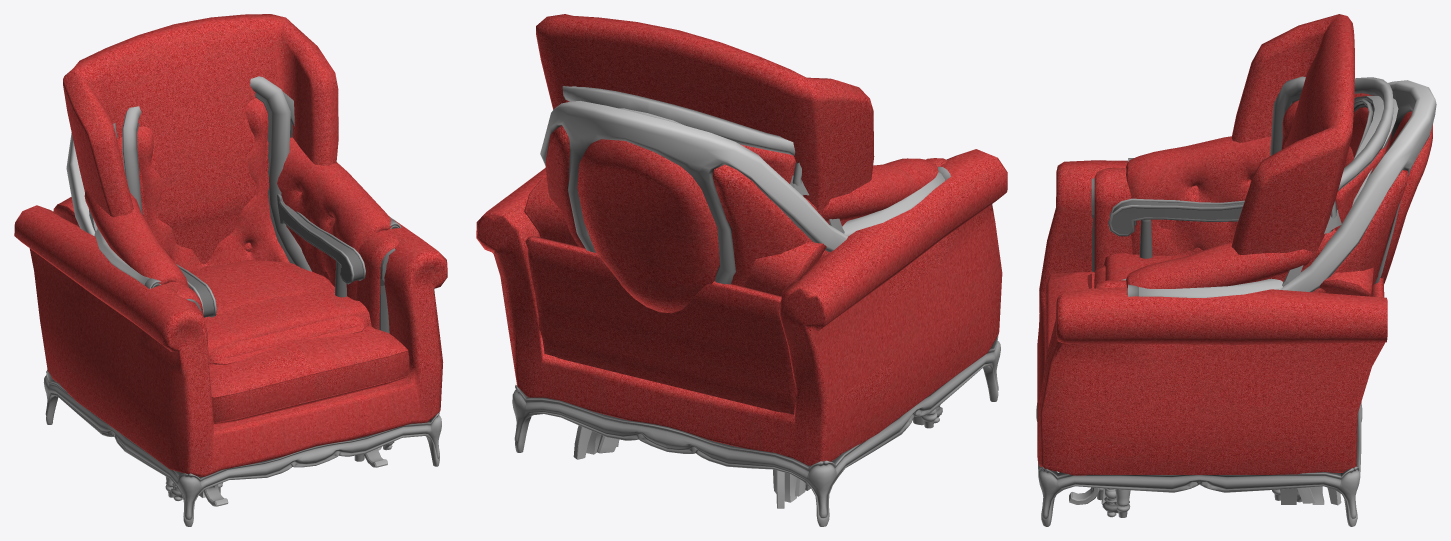
The model's file is GrandChairs.fbx.
3 renders of one model, left to right at view 1: azimuth 30°, elevation 25°; view 2: azimuth 150°, elevation 25°; view 3: azimuth 270°, elevation 25°, orthographic. The views are drawn at different scales.
Parts seen in each view (by area): view 1: grandchair7_MSH, GrandChair8_MSH, grandchair1_MSH, grandchair5_MSH, grandchair6_MSH, grandchair4_MSH, grandchair2_MSH; view 2: grandchair7_MSH, grandchair2_MSH, GrandChair8_MSH, grandchair6_MSH, grandchair5_MSH, grandchair4_MSH; view 3: grandchair7_MSH, GrandChair8_MSH, grandchair5_MSH, grandchair2_MSH, grandchair1_MSH, grandchair6_MSH, grandchair3_MSH, grandchair4_MSH.
Part boxes in pixels (x1,y1,x2,y2): grandchair7_MSH: (14, 197, 447, 526); GrandChair8_MSH: (63, 14, 398, 506); grandchair1_MSH: (122, 76, 368, 492); grandchair5_MSH: (84, 137, 391, 447); grandchair6_MSH: (172, 260, 392, 501); grandchair4_MSH: (94, 91, 401, 450); grandchair2_MSH: (66, 133, 174, 497); grandchair7_MSH: (476, 149, 1007, 526); grandchair2_MSH: (540, 101, 937, 428); GrandChair8_MSH: (536, 14, 947, 490); grandchair6_MSH: (562, 86, 939, 508); grandchair5_MSH: (597, 158, 938, 493); grandchair4_MSH: (795, 166, 950, 496); grandchair7_MSH: (1036, 160, 1387, 526); GrandChair8_MSH: (1069, 14, 1354, 504); grandchair5_MSH: (1104, 136, 1353, 513); grandchair2_MSH: (1115, 80, 1436, 517); grandchair1_MSH: (1094, 76, 1305, 500); grandchair6_MSH: (1105, 77, 1393, 517); grandchair3_MSH: (1102, 96, 1398, 515); grandchair4_MSH: (1104, 124, 1315, 503).
Size of the model in its own units: 117 by 145 by 130.
